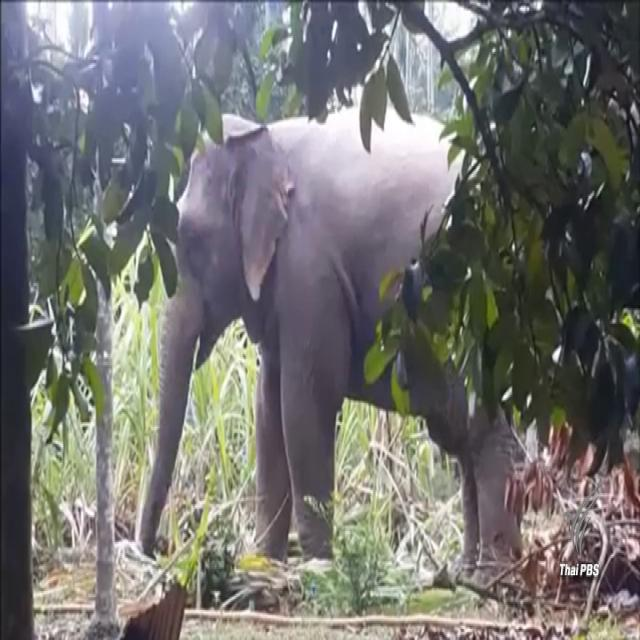Elephant: (144, 59, 555, 639)
